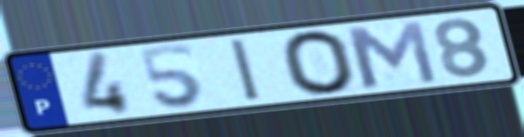4: (76, 48, 134, 119)
5: (136, 40, 209, 112)
8: (431, 16, 494, 79)
I: (226, 36, 267, 105)
M: (340, 18, 442, 91)
O: (277, 28, 360, 98)
